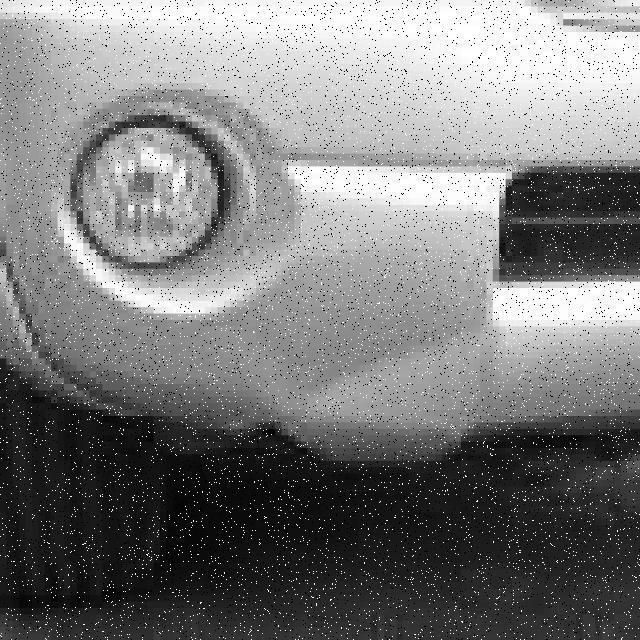front-bumper-dent: (1, 199, 634, 487)
